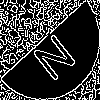N: (25, 25, 78, 83)
